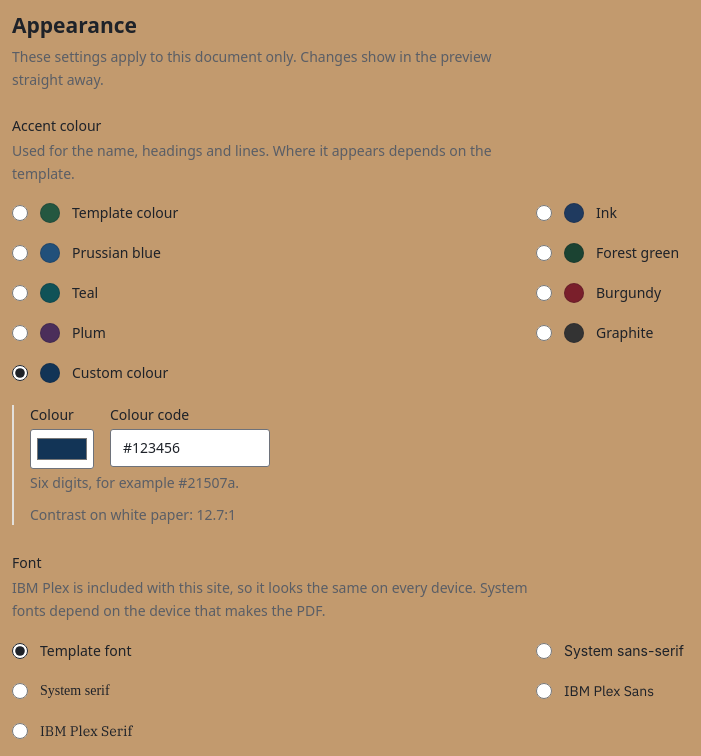
Scenario: DesignPanel appearance › follows the colour picker
In the colour field labelled "Colour": [62, 449] box [30, 429, 94, 469], type "#0f5257"
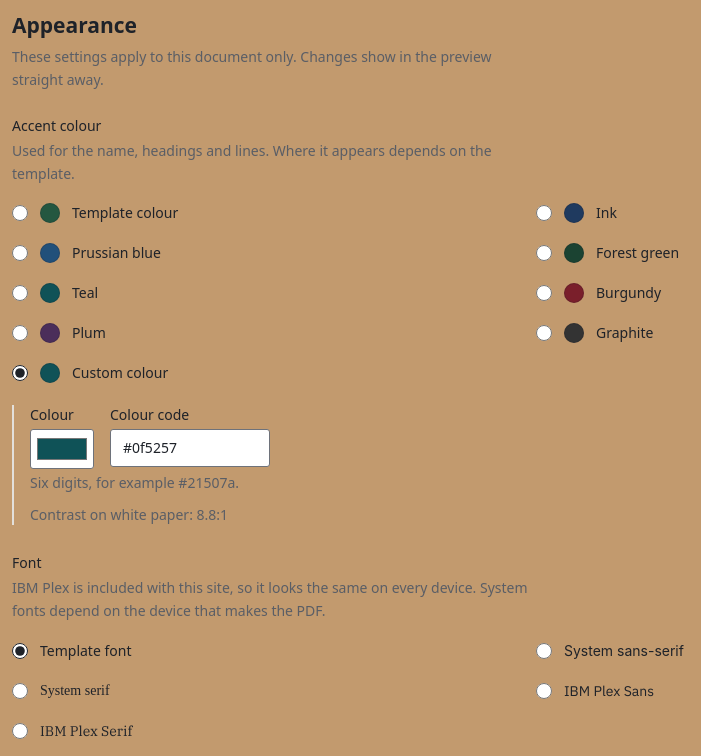
Expected: the radio button labelled "Custom colour" is checked, [12, 365, 28, 381]
Expected: the field labelled "Colour code" holds "#0f5257", [110, 429, 270, 467]
